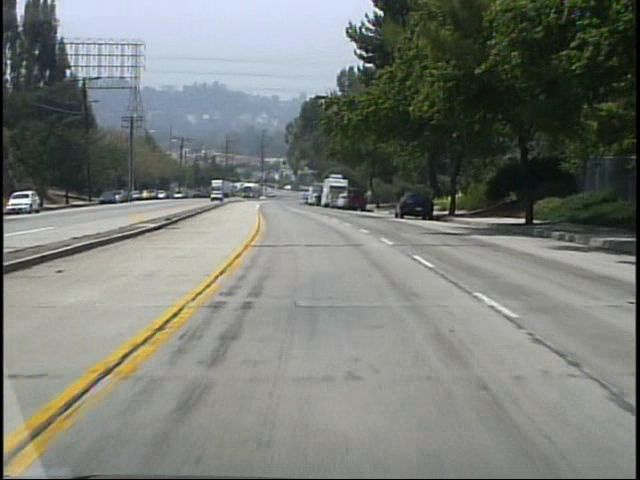person: (362, 185, 373, 208)
